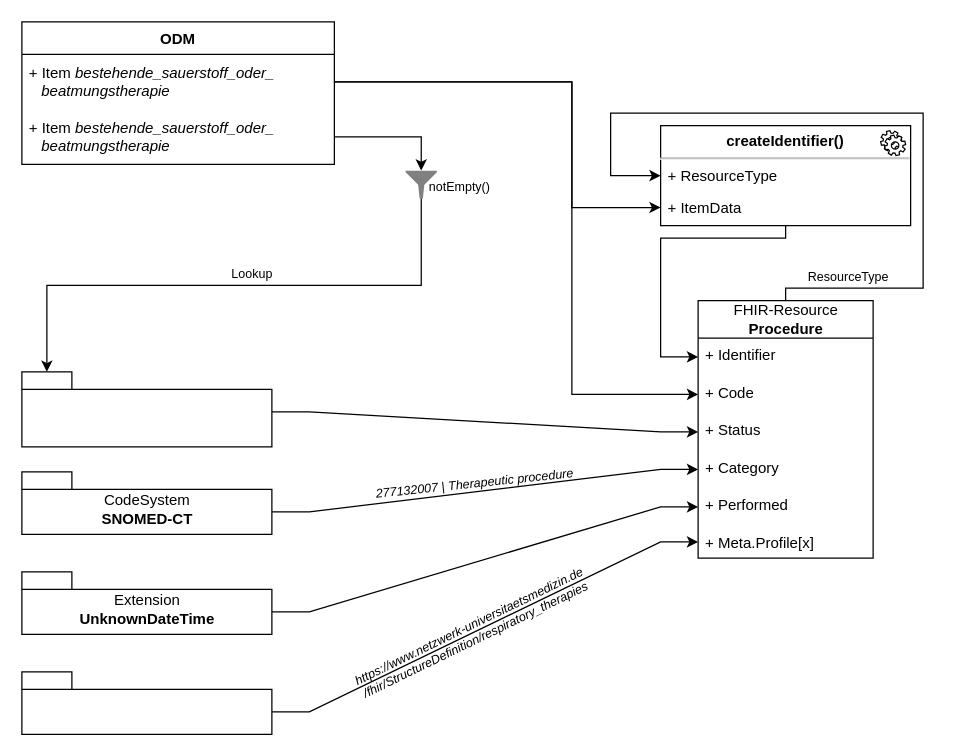
Image size: 955x756. Some labels were removed from this diagram. The shapes that lost their labels are listed below. From the top down, each one's centre as x and y in pixels, then its label:
At [146,409]: "ValueSet ProcedureStatus INPROGRESS | NOTDONE | UNKNOWN".
At [146,702]: "GECCO Profiles".
